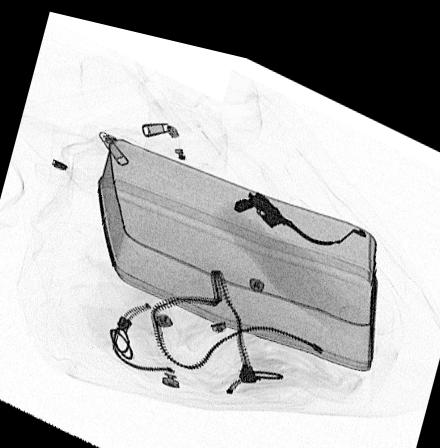Gun: (233, 178, 367, 230)
